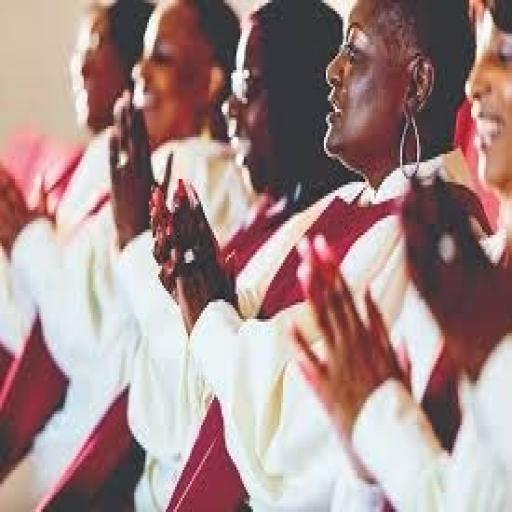clapping: (190, 17, 512, 512), (78, 7, 362, 512), (12, 24, 232, 451), (335, 43, 512, 512)
